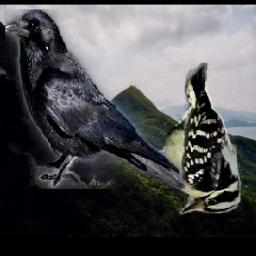Crow: (4, 9, 185, 189)
Woodpecker: (135, 64, 244, 217)
